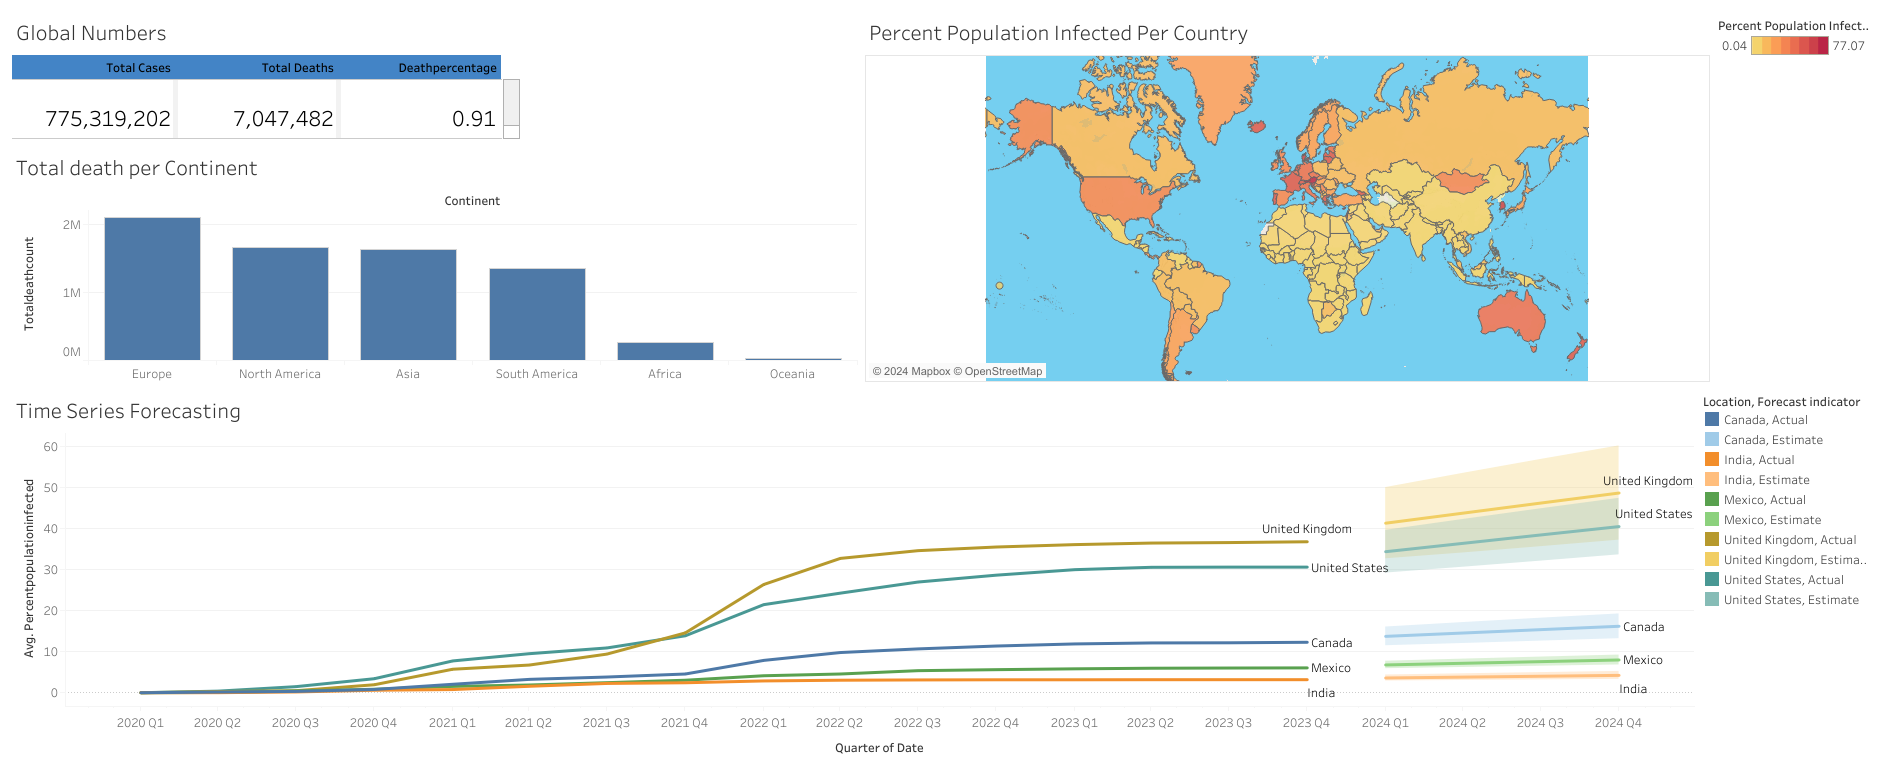

The dashboard page shown, as its layout file describes it:
{"tool":"tableau","page":{"name":"Dashboard 1","canvas":[1000,1000],"units":"permille","ordinal":0},"visuals":[{"type":"worksheet","title":"Sheet 1","mark":"Automatic","box":[4.7,8.9,448.5,175.2]},{"type":"worksheet","title":"Sheet 3","mark":"Automatic","box":[453.2,8.9,448.5,488.9]},{"type":"legend","title":"Sheet 3","param":"[federated.1fkdk8x0iz59ho1bxj7hb0los3uy].[sum:percentpopulationinfected:qk]","box":[901.7,8.9,93.6,323.7]},{"type":"worksheet","title":"Sheet 2","mark":"Automatic","rows":["totaldeathcount"],"cols":["location"],"box":[4.7,184.2,448.5,313.7]},{"type":"worksheet","title":"Sheet 4","mark":"Automatic","rows":["percentpopulationinfected"],"cols":["date"],"box":[4.7,497.9,897,493.2]},{"type":"legend","title":"Sheet 4","param":"[federated.0fdd3cj0umee3m0zlko2e1e6tstv].[none:location:nk]\n[federated.0fdd3cj0u","box":[901.7,497.9,93.6,493.2]}]}

Visuals, with their boxes on the dashboard's canvas, which has no fixed pixel size, in thousandths of its width and height (x1, y1, x2, y2). These are canvas units, not pixel positions in the 1881x774 screenshot, which may show the page scaled, cropped or inside an application window:
"Sheet 1" worksheet: 5, 9, 453, 184
"Sheet 3" worksheet: 453, 9, 902, 498
"Sheet 3" legend: 902, 9, 995, 333
"Sheet 2" worksheet: 5, 184, 453, 498
"Sheet 4" worksheet: 5, 498, 902, 991
"Sheet 4" legend: 902, 498, 995, 991
